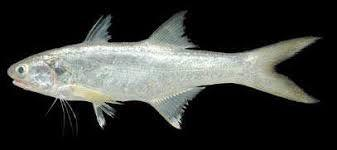Fourfinger Threadfish: (7, 13, 320, 130)
